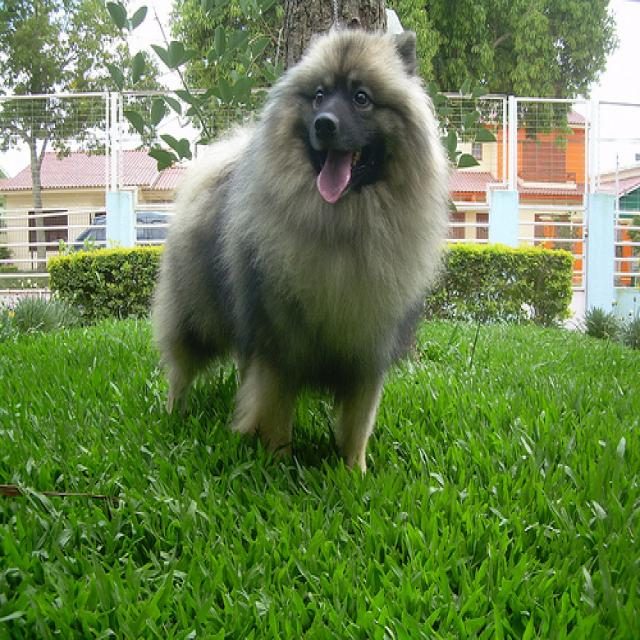dog-keeshond: (142, 17, 454, 483)
